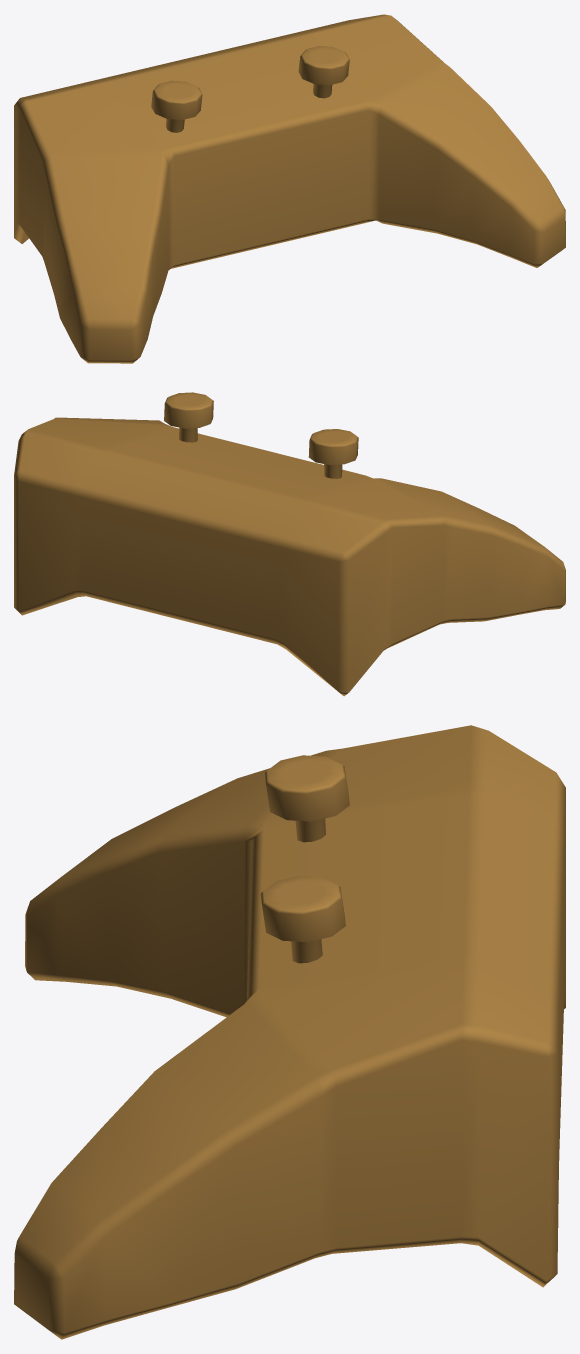
The model's file is Controller Mod.fbx.
3 renders of one model, top to bottom at view 1: azimuth 30°, elevation 25°; view 2: azimuth 150°, elevation 25°; view 3: azimuth 270°, elevation 25°, orthographic. The views are drawn at different scales.
Parts seen in each view (by area): view 1: pCube17, polySurface34, polySurface33; view 2: pCube17, polySurface34, polySurface33; view 3: pCube17, polySurface34, polySurface33.
Boxes of the visible parts, x1,y1,x2,y2 form: pCube17: (14, 14, 565, 363); polySurface34: (298, 46, 349, 98); polySurface33: (151, 80, 202, 132); pCube17: (14, 417, 565, 696); polySurface34: (164, 392, 213, 442); polySurface33: (308, 429, 358, 478); pCube17: (14, 725, 565, 1339); polySurface34: (260, 876, 345, 963); polySurface33: (264, 755, 349, 842).
Size of the model in its own units: 17.32 by 6.45 by 10.16.
